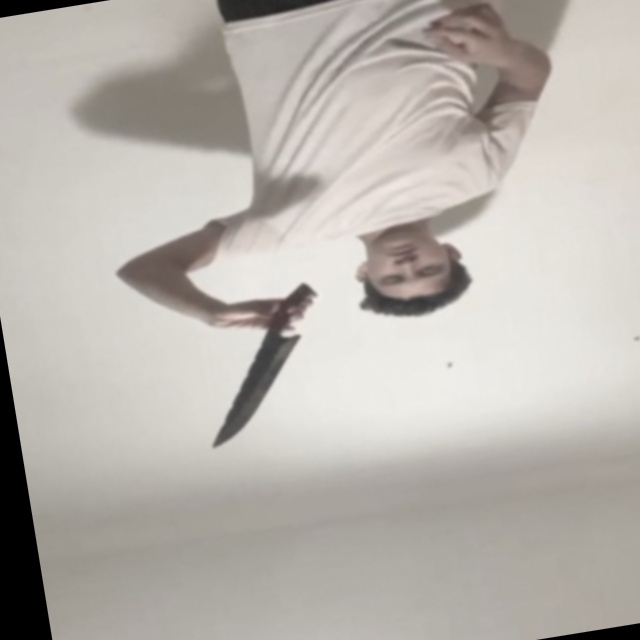Sharp-Object: (192, 330, 318, 451)
